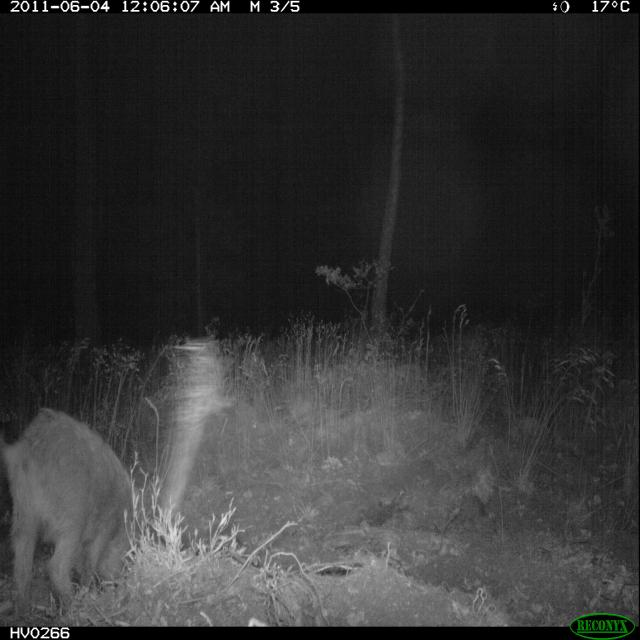boar: (0, 367, 185, 603)
